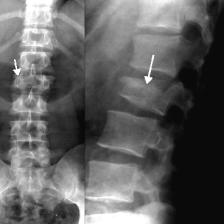compression-crush-fracture: (2, 0, 224, 224)
